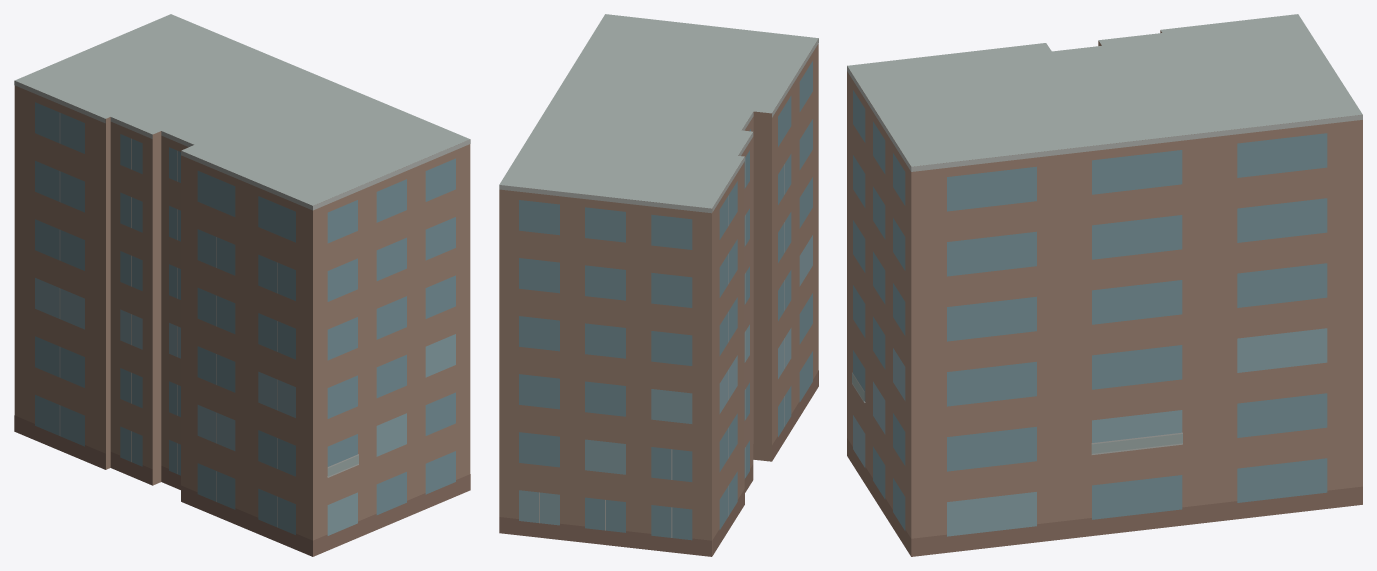
File: survey-upis-32712910.glb
3 views of the same model, side by side, from view 1: azimuth 30°, elevation 25°; view 2: azimuth 150°, elevation 25°; view 3: azimuth 270°, elevation 25° (orthographic). The views are drawn at different scales.
Visible parts, largest first — view 1: survey-upis-32712910.tmp; view 2: survey-upis-32712910.tmp; view 3: survey-upis-32712910.tmp.
Boxes of the visible parts, x1,y1,x2,y2 form: survey-upis-32712910.tmp: (14,14,470,556); survey-upis-32712910.tmp: (499,14,818,556); survey-upis-32712910.tmp: (847,14,1362,556).
Size of the model in its own units: 15.38 by 18.3 by 21.94.
